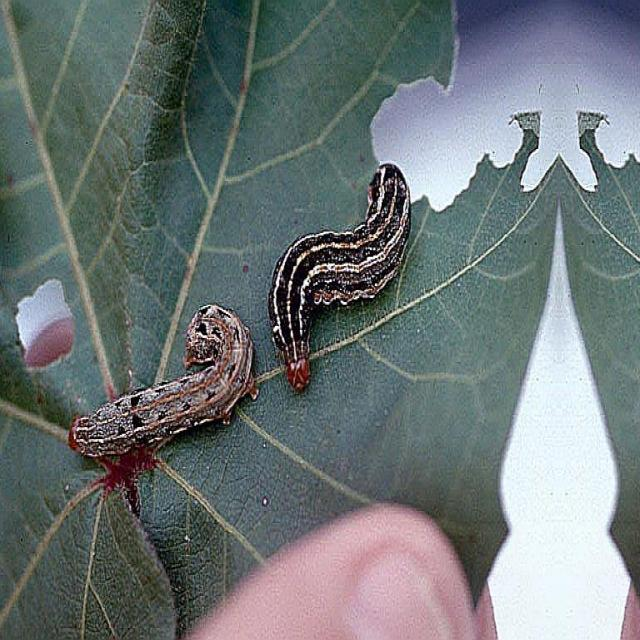Armyworm: (51, 238, 255, 489), (251, 164, 420, 404)
Armyworm_damage: (4, 255, 88, 387)
